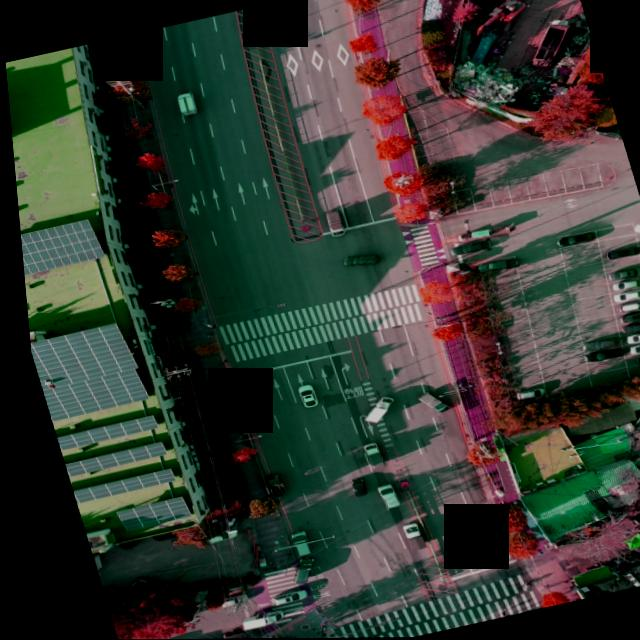car: (276, 551, 313, 586), (103, 574, 143, 600), (578, 345, 623, 364), (278, 527, 305, 557), (337, 251, 377, 271), (365, 482, 393, 510), (256, 588, 296, 607), (599, 244, 639, 262), (600, 264, 640, 282), (445, 239, 485, 257), (575, 335, 617, 352), (552, 231, 592, 248), (289, 383, 311, 408), (482, 255, 516, 271), (607, 276, 640, 292), (478, 537, 499, 562), (508, 386, 540, 402), (196, 528, 230, 543), (609, 287, 640, 303), (454, 548, 476, 570), (614, 308, 640, 324), (613, 298, 640, 313), (340, 477, 359, 497), (616, 319, 640, 334), (619, 327, 640, 344), (624, 341, 640, 356), (628, 349, 640, 368), (625, 221, 640, 233)
small_truck: (352, 396, 396, 426), (226, 608, 274, 630), (408, 387, 444, 416), (318, 207, 348, 238), (391, 519, 418, 550), (172, 89, 197, 116), (354, 442, 378, 467), (257, 470, 280, 496)
